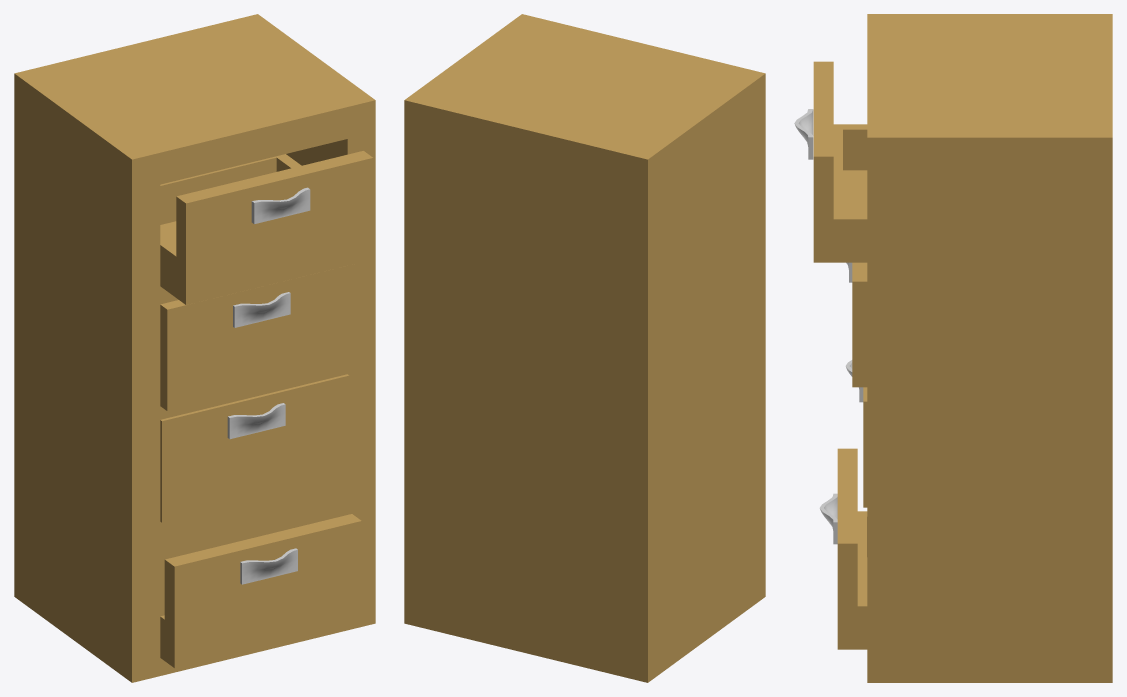
Rendered from Draws.fbx.
The picture shows the model from 3 angles, left to right: view 1: azimuth 30°, elevation 25°; view 2: azimuth 150°, elevation 25°; view 3: azimuth 270°, elevation 25°; orthographic projection. The views are drawn at different scales.
Visible parts, largest first — view 1: pCube211; view 2: pCube211; view 3: pCube211.
Part boxes in pixels (box(x1,y1,x2,y2)): pCube211: box(14, 14, 375, 682); pCube211: box(404, 14, 765, 682); pCube211: box(794, 14, 1112, 682).
Bounding box in the file's own units: 0.5654 × 1.16 × 0.6141.
